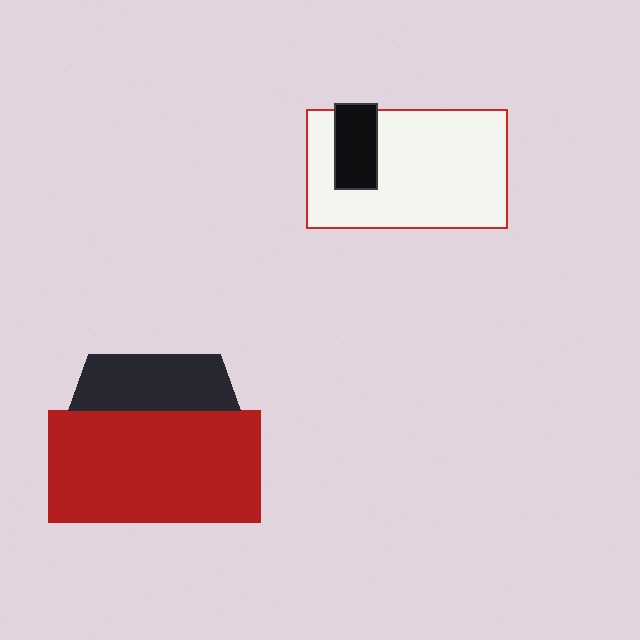book: (306, 109, 507, 228)
phone: (334, 103, 421, 189)
vehicle: (48, 354, 260, 522)
